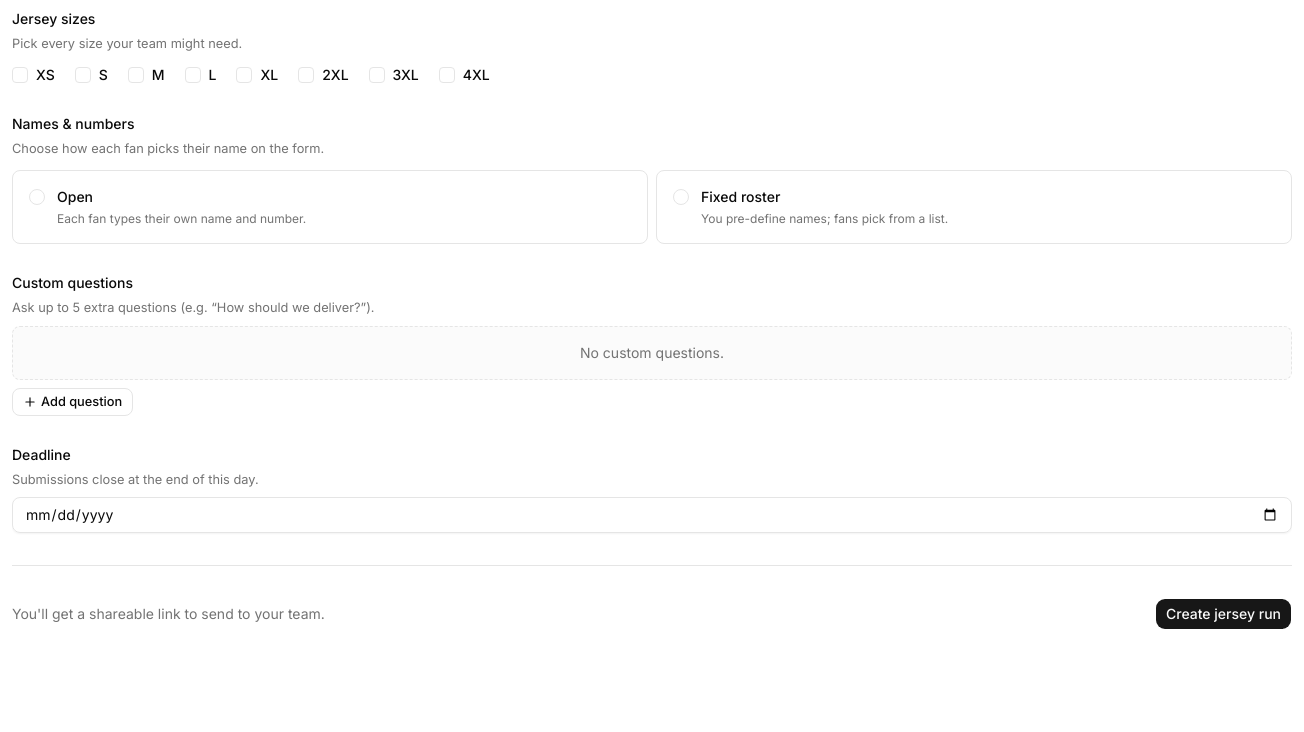
Test: JerseyRunSetup › surfaces RHF + zod validation errors when the user submits an empty form
Click the button "Create jersey run".
click(1224, 614)  # box [1155, 598, 1292, 630]
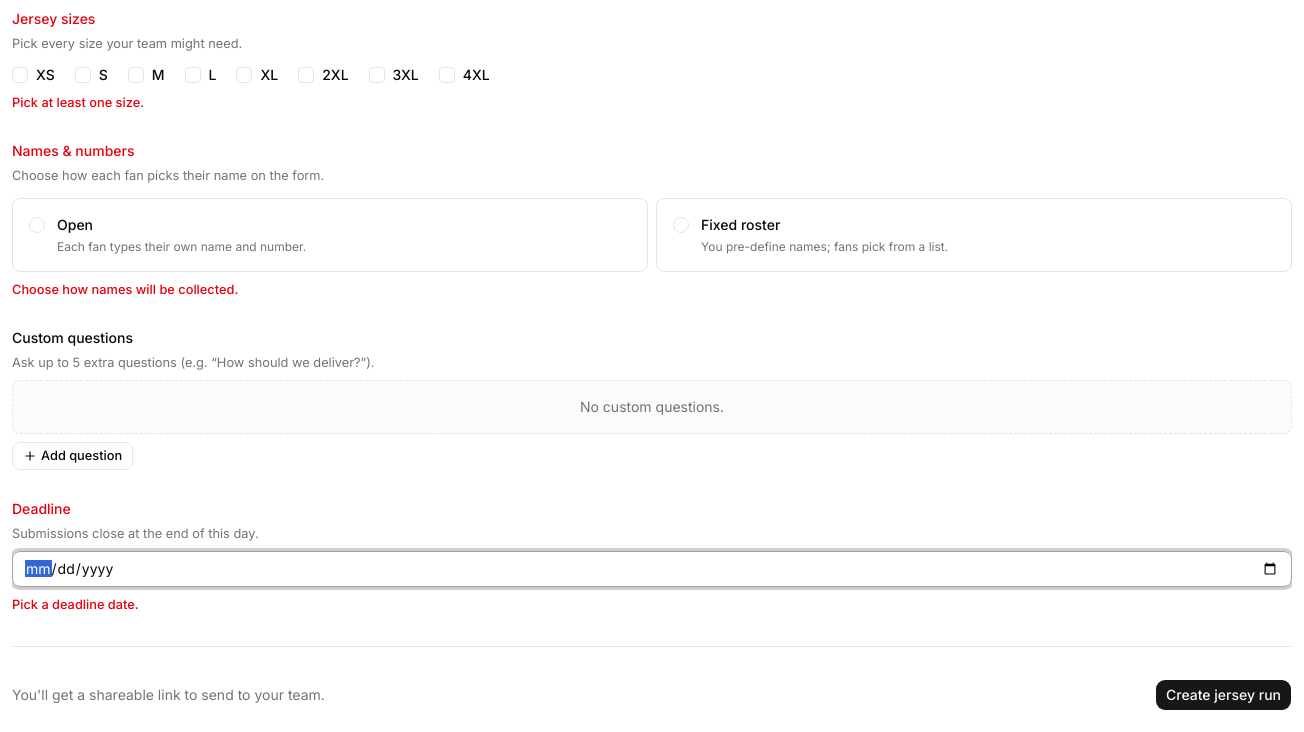
Check: the text "Pick at least one size." is shown, box [12, 95, 144, 110]
Check: the text "Choose how names will be collected." is shown, box [12, 282, 238, 297]
Check: the text "Pick a deadline date." is shown, box [12, 597, 139, 612]
